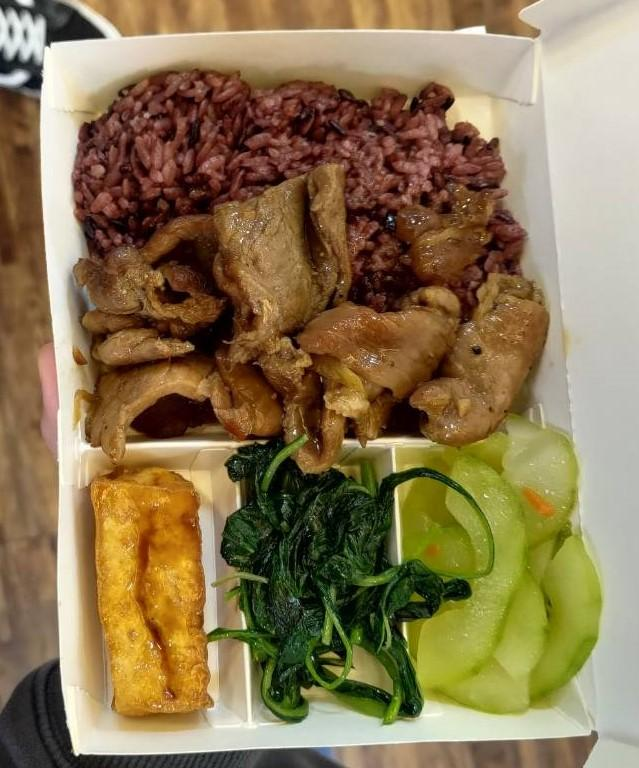big grilled chicken leg: (17, 15, 599, 765)
braised fish: (64, 69, 527, 292)
braised fish fillet: (226, 442, 432, 727), (411, 419, 604, 711), (81, 464, 216, 723)
braised pork: (57, 163, 550, 452)
